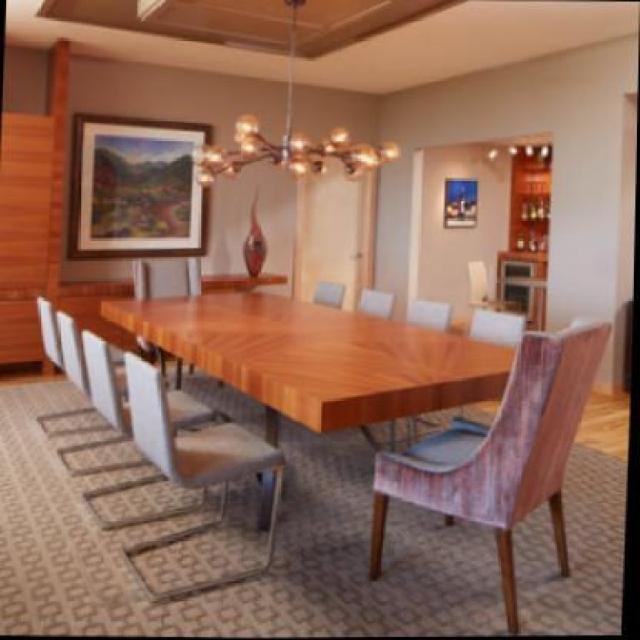tables: (97, 289, 520, 557)
